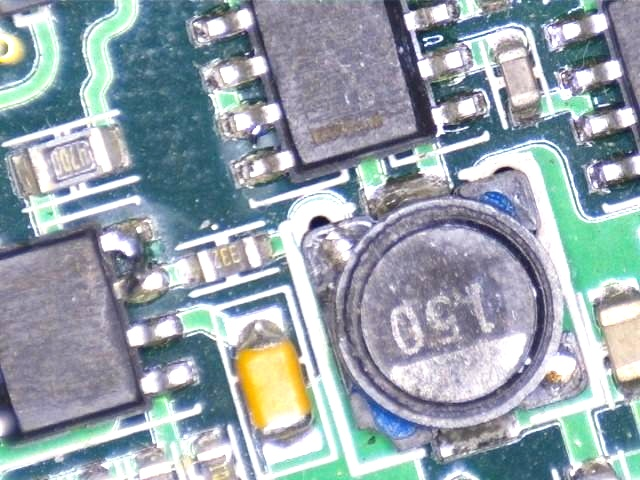pcb_defect: (216, 101, 296, 188), (99, 218, 165, 303)
